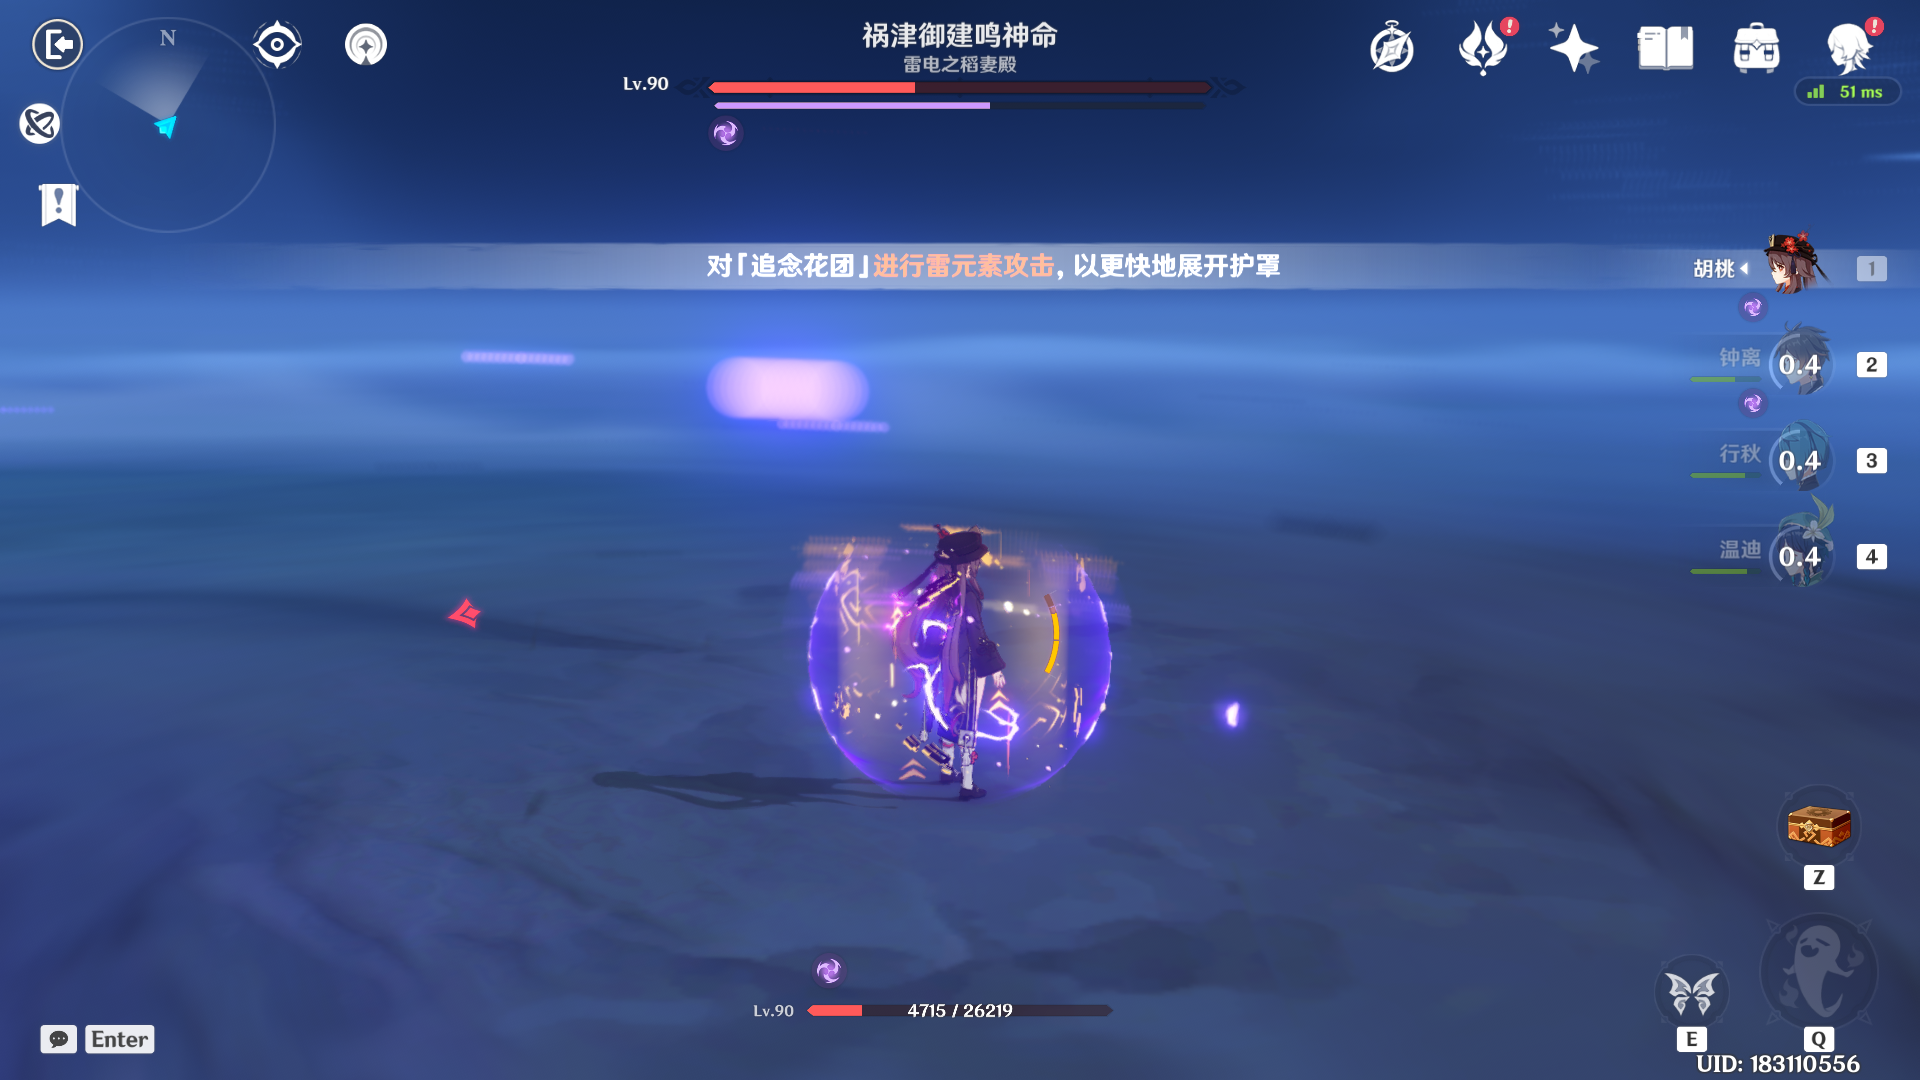character: (819, 502, 1029, 800)
